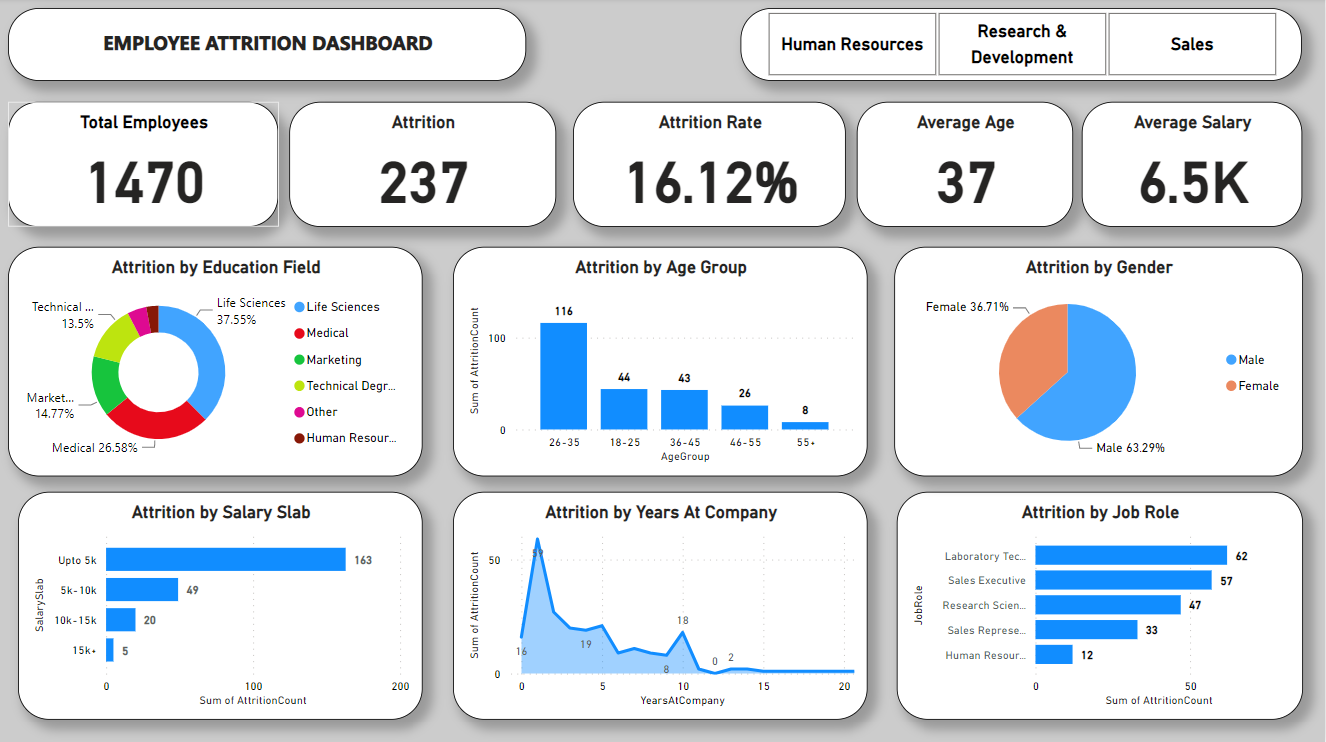

The dashboard page shown, as its layout file describes it:
{"tool":"powerbi","page":{"name":"Page 1","canvas":[1280,720],"ordinal":0},"visuals":[{"type":"card","title":"Total Employees","fields":{"Values":["Count(HR_Analytics.EmpID)"]},"box":[9.7,100.3,261.1,120.9],"z":0},{"type":"card","title":"Attrition ","fields":{"Values":["Sum(HR_Analytics.AttritionCount)"]},"box":[280.5,100.3,257.5,120.9],"z":1000},{"type":"card","title":"Attrition Rate","fields":{"Values":["HR_Analytics.Attrition_Rate"]},"box":[554.9,100.3,263.5,120.9],"z":2000},{"type":"donutChart","title":" Attrition by Education Field","fields":{"Category":["HR_Analytics.EducationField"],"Y":["Sum(HR_Analytics.AttritionCount)"]},"box":[9.7,240.6,400.2,221.2],"z":3000},{"type":"columnChart","title":" Attrition by Age Group","fields":{"Category":["HR_Analytics.AgeGroup"],"Y":["Sum(HR_Analytics.AttritionCount)"]},"box":[438.8,240.6,400.2,221.2],"z":4000},{"type":"barChart","title":"Attrition by Salary Slab","fields":{"Category":["HR_Analytics.SalarySlab"],"Y":["Sum(HR_Analytics.AttritionCount)"]},"box":[19.3,476.3,390.5,220],"z":5000},{"type":"barChart","title":"Attrition by Job Role","fields":{"Category":["HR_Analytics.JobRole"],"Y":["Sum(HR_Analytics.AttritionCount)"]},"box":[866.8,476.3,391.7,220],"z":6000},{"type":"areaChart","title":"Attrition by Years At Company","fields":{"Category":["HR_Analytics.YearsAtCompany"],"Y":["Sum(HR_Analytics.AttritionCount)"]},"box":[438.8,476.3,400.2,220],"z":7000},{"type":"slicer","fields":{"Values":["HR_Analytics.Department"]},"box":[716.9,9.7,541.6,70.1],"z":8000},{"type":"textbox","box":[9.7,9.7,500,70],"z":9000},{"type":"card","title":"Average Age","fields":{"Values":["Avg(HR_Analytics.Age)"]},"box":[828.1,100.3,209.1,120.9],"z":10000},{"type":"card","title":"Average Salary","fields":{"Values":["Avg(HR_Analytics.MonthlyIncome)"]},"box":[1045.7,100.3,212.8,120.9],"z":11000},{"type":"pieChart","title":" Attrition by Gender","fields":{"Category":["HR_Analytics.Gender"],"Y":["Sum(HR_Analytics.AttritionCount)"]},"box":[864.4,240.6,394.1,221.2],"z":12000}]}

Visuals, with their boxes in screenshot pixels (x1, y1, x2, y2), scaled from the page's 1280x720 canvas onto the 1326x742 screenshot:
"Total Employees" card: bbox=(10, 103, 281, 228)
"Attrition " card: bbox=(291, 103, 557, 228)
"Attrition Rate" card: bbox=(575, 103, 848, 228)
" Attrition by Education Field" donutChart: bbox=(10, 248, 425, 476)
" Attrition by Age Group" columnChart: bbox=(455, 248, 869, 476)
"Attrition by Salary Slab" barChart: bbox=(20, 491, 425, 718)
"Attrition by Job Role" barChart: bbox=(898, 491, 1304, 718)
"Attrition by Years At Company" areaChart: bbox=(455, 491, 869, 718)
slicer - HR_Analytics.Department: bbox=(743, 10, 1304, 82)
textbox: bbox=(10, 10, 528, 82)
"Average Age" card: bbox=(858, 103, 1074, 228)
"Average Salary" card: bbox=(1083, 103, 1304, 228)
" Attrition by Gender" pieChart: bbox=(895, 248, 1304, 476)
